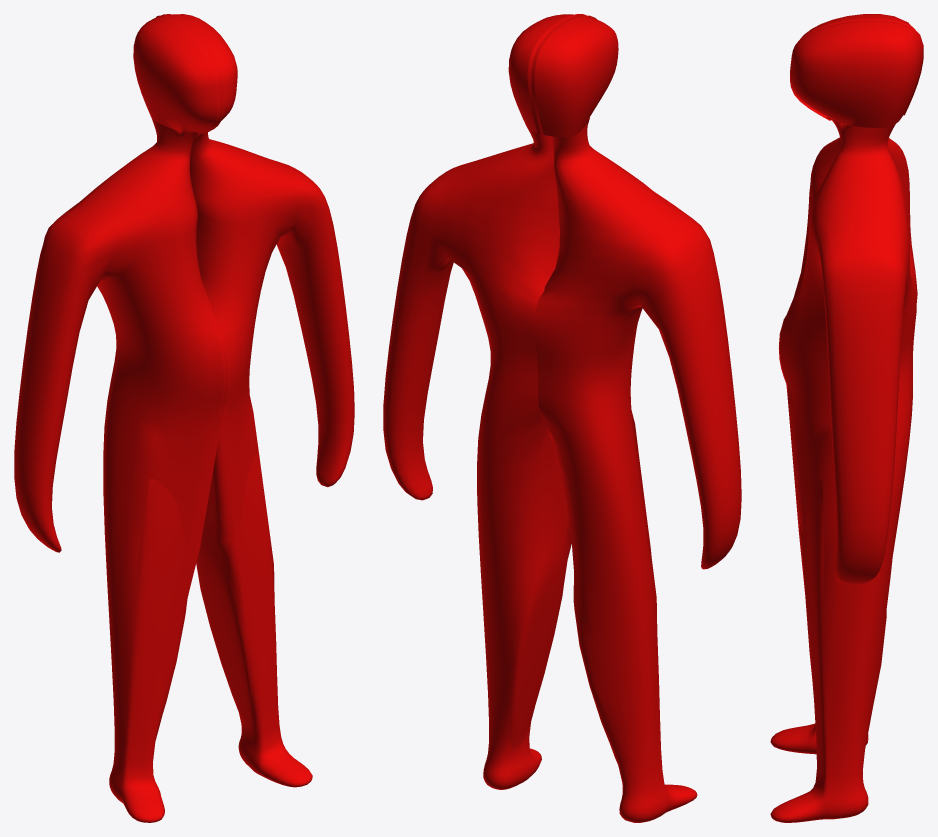
The model's file is player.fbx.
3 views of the same model, side by side, from view 1: azimuth 30°, elevation 25°; view 2: azimuth 150°, elevation 25°; view 3: azimuth 270°, elevation 25° (orthographic). The views are drawn at different scales.
Parts seen in each view (by area): view 1: Cube; view 2: Cube; view 3: Cube.
Boxes of the visible parts, x1=… form: Cube: x1=14, y1=14, x2=354, y2=822; Cube: x1=383, y1=14, x2=741, y2=822; Cube: x1=770, y1=14, x2=923, y2=822.
Bounding box in the file's own units: 281 × 612 × 111.
